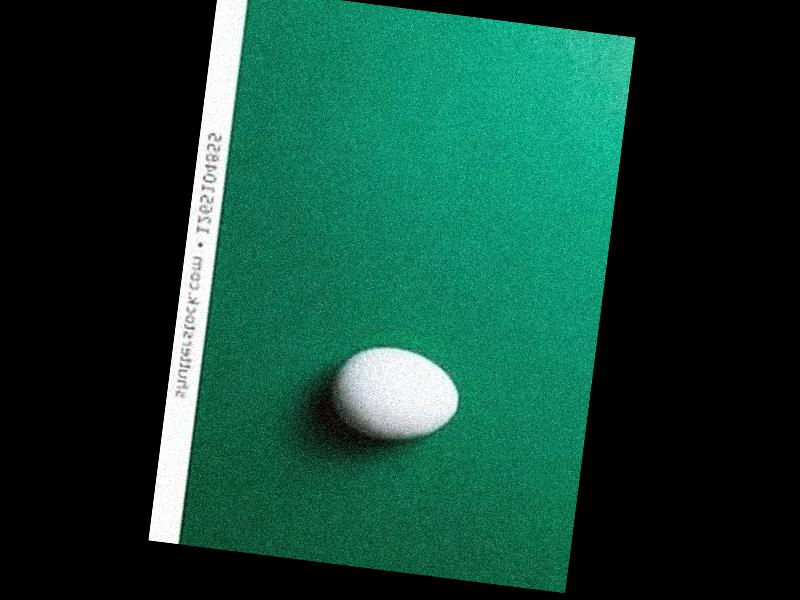Eggs: (326, 337, 463, 444)
